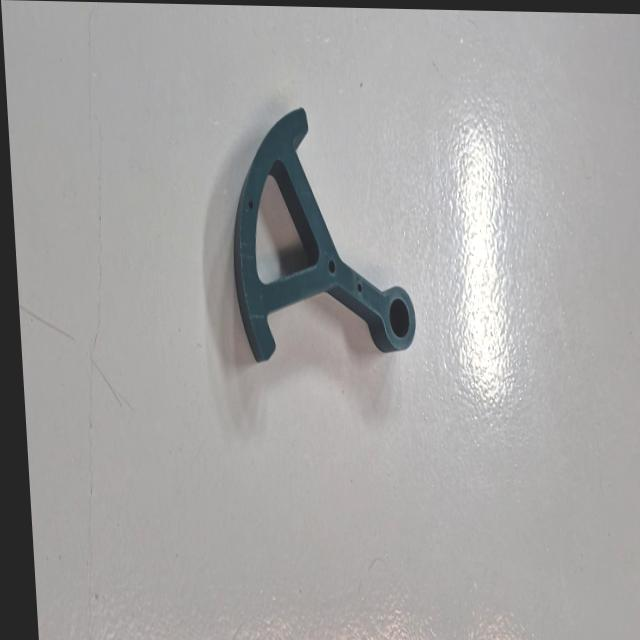haptic: (221, 104, 419, 368)
